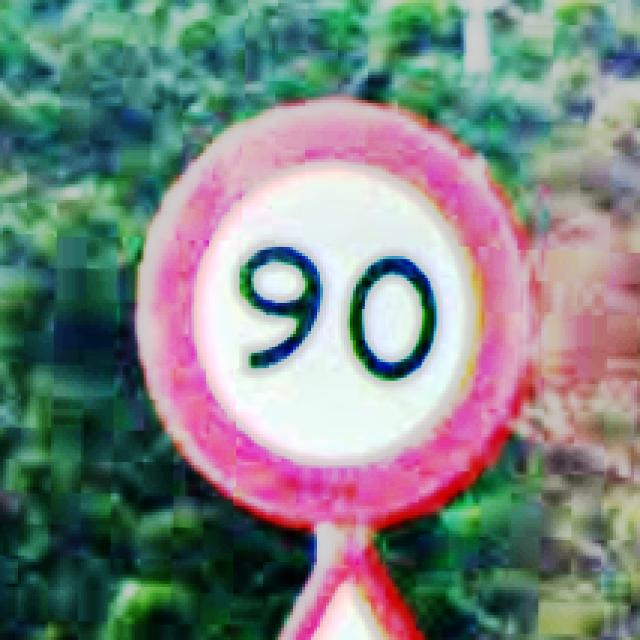max90: (132, 94, 535, 528)
